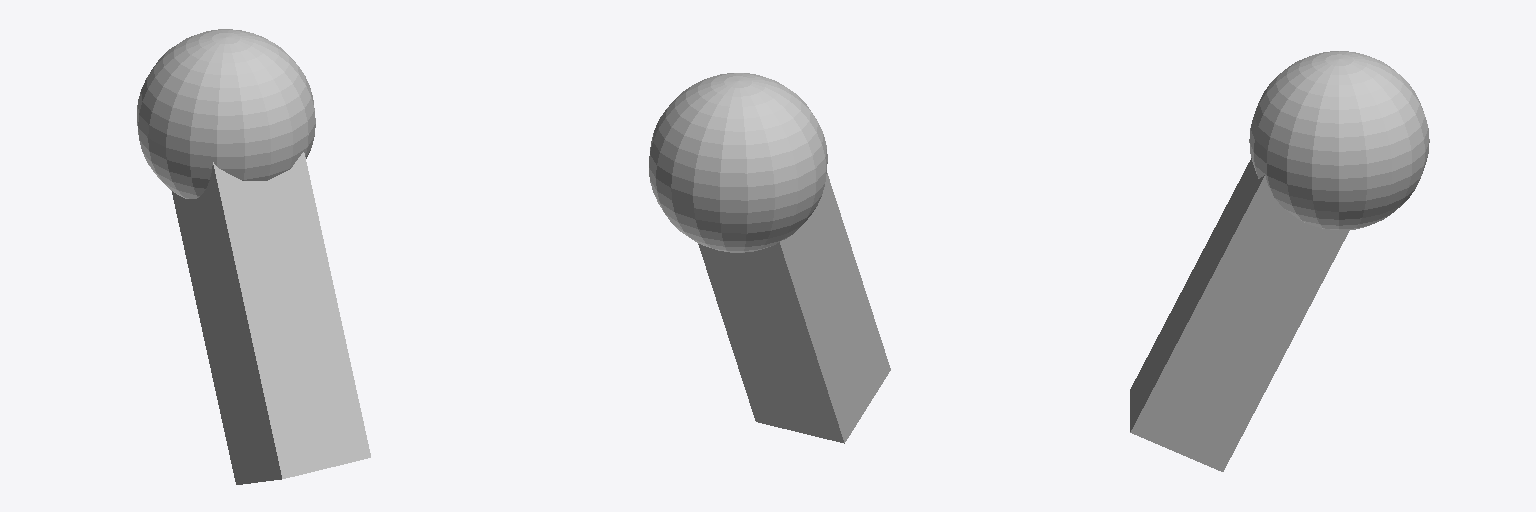
The model's file is leftarm.obj.
The picture shows the model from 3 angles: view 1: azimuth 30°, elevation 25°; view 2: azimuth 150°, elevation 25°; view 3: azimuth 270°, elevation 25°; orthographic projection.
Visible parts, largest first — view 1: pCube4, pSphere1; view 2: pCube4, pSphere1; view 3: pCube4, pSphere1.
Part boxes in pixels (x1,y1,x2,y2): pCube4: (172, 152, 370, 484); pSphere1: (137, 29, 315, 198); pCube4: (698, 173, 890, 443); pSphere1: (649, 73, 827, 252); pCube4: (1130, 158, 1349, 471); pSphere1: (1249, 51, 1429, 229).
Size of the model in its own units: 1.34 by 3.22 by 2.22.